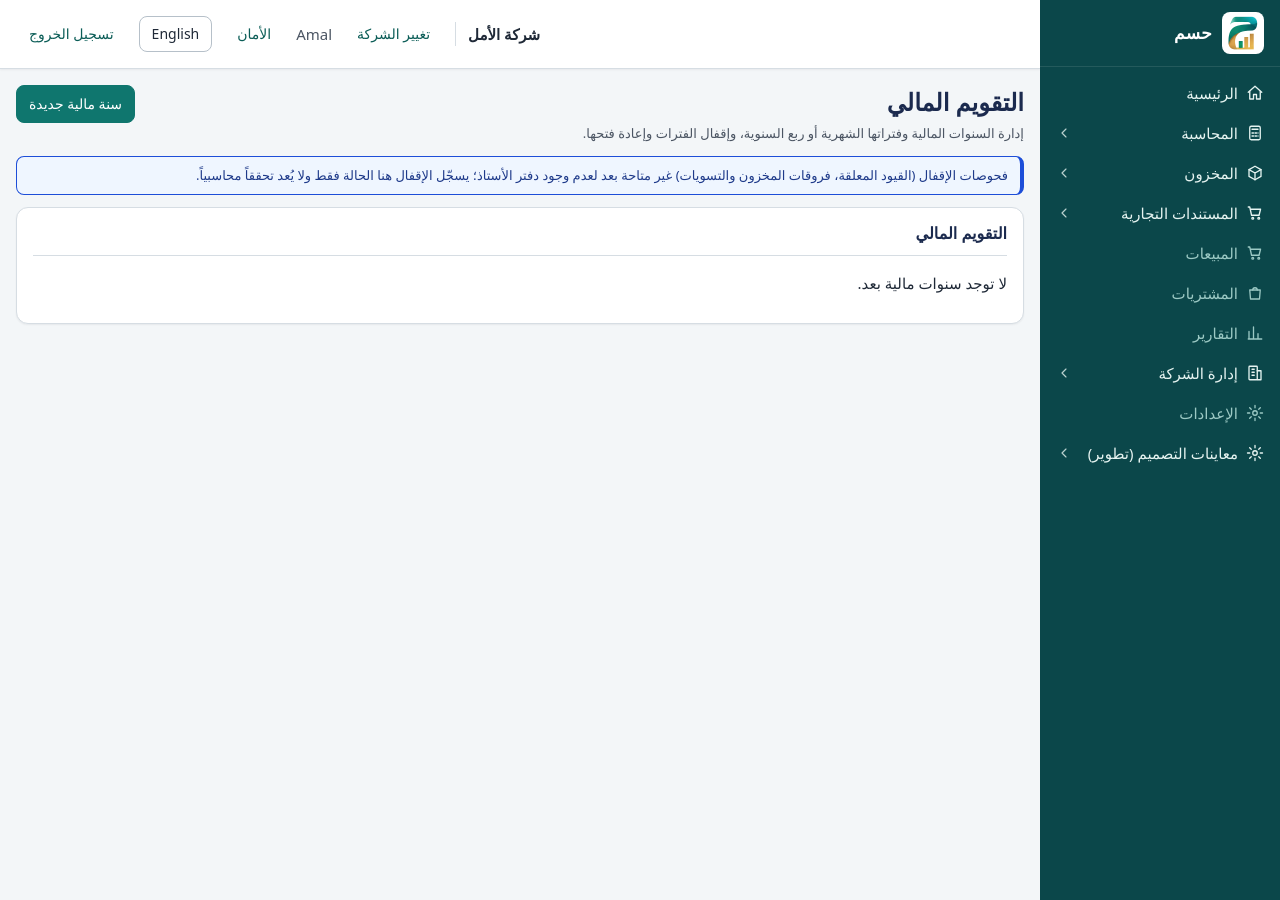
fiscal year: Arabic-Indic start year › refuses the invalid year ٢٠٢x: nothing is sent and the field shows its error
Check: the element with test id "company-name" is shown, box [455,22,540,46]
Click the button "سنة مالية جديدة": (76, 104) [16,85,135,123]
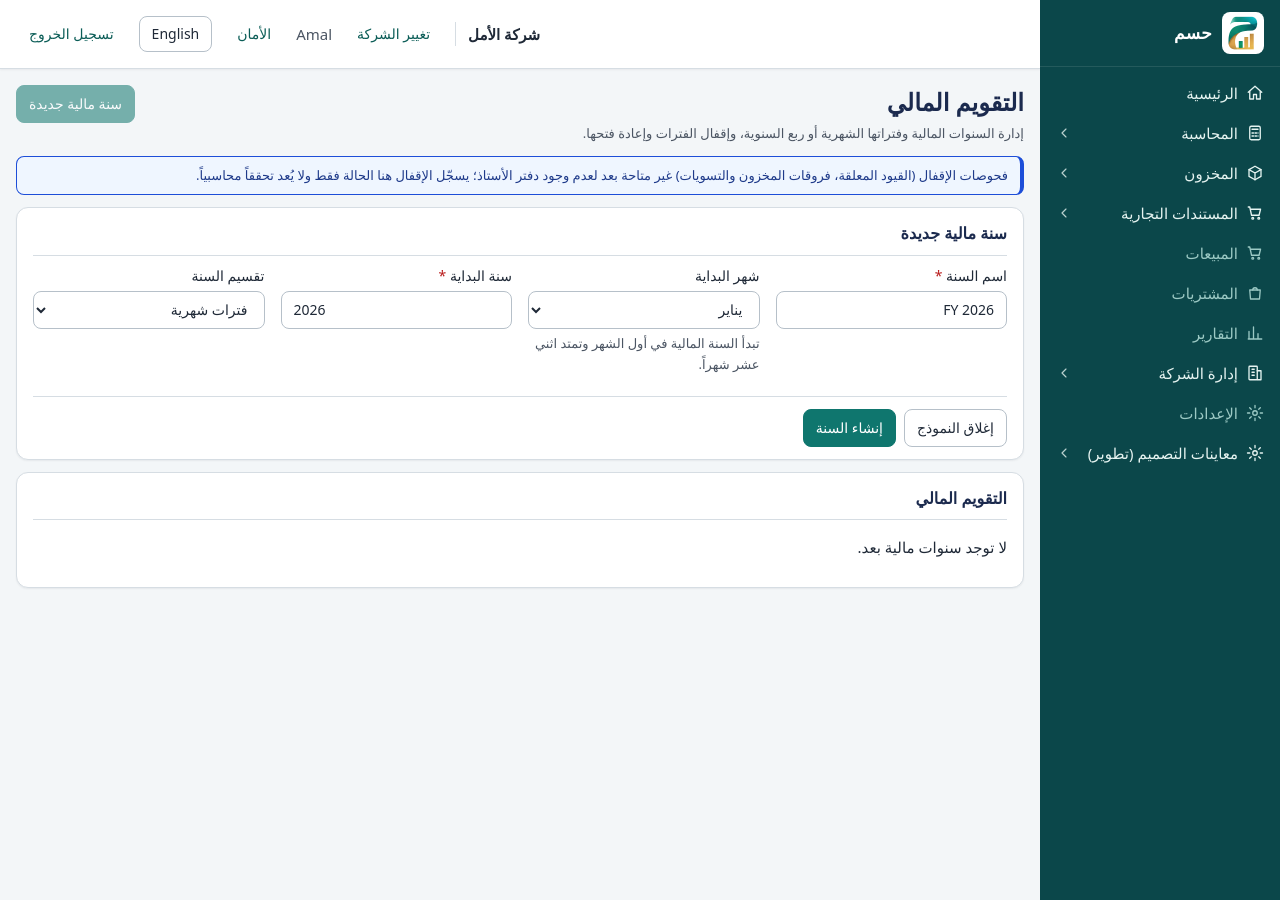
Replace the text in the field labelled "سنة البداية *" with "٢٠٢x": (396, 310) [280,291,512,329]
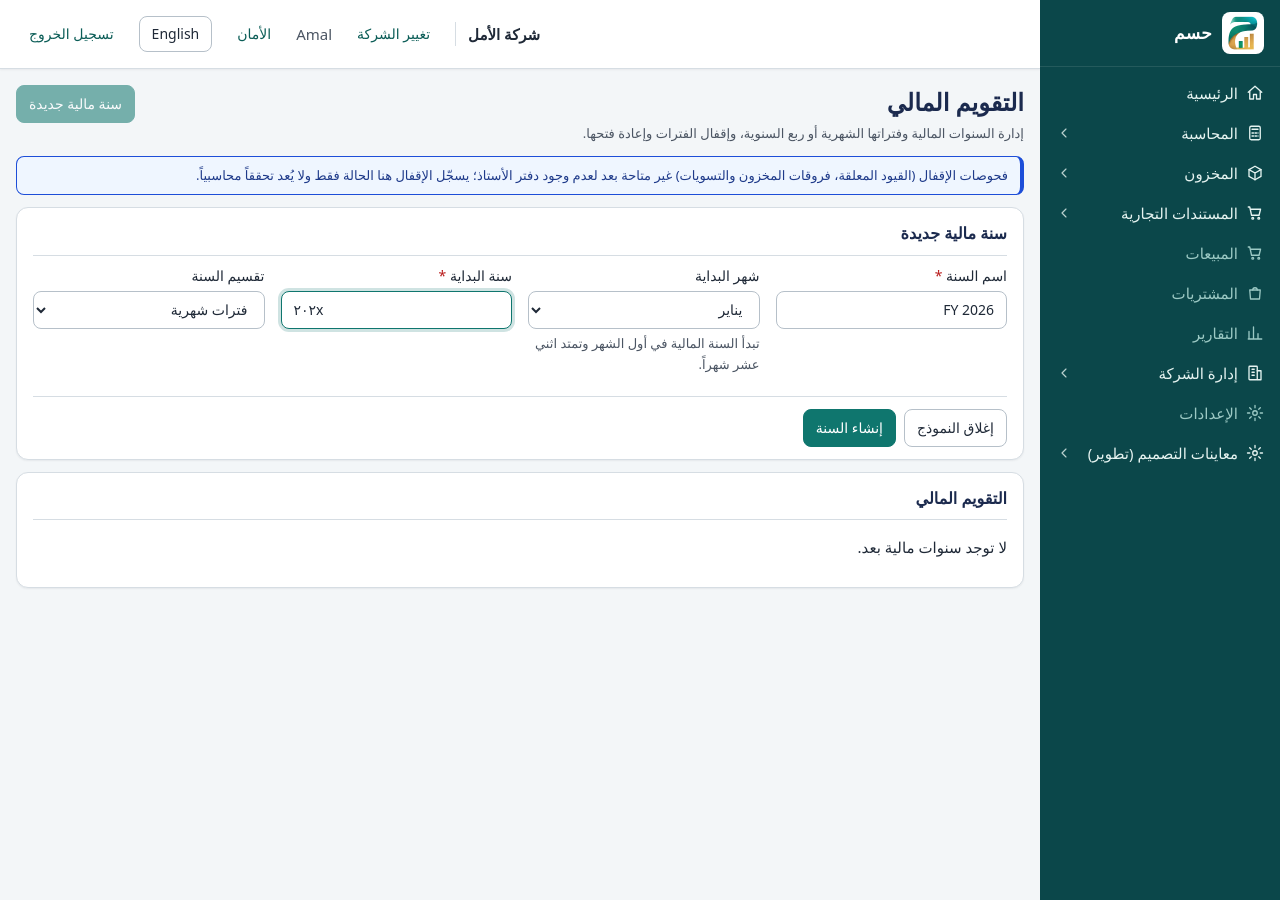
Click the button "إنشاء السنة": (849, 428) [803,409,896,447]
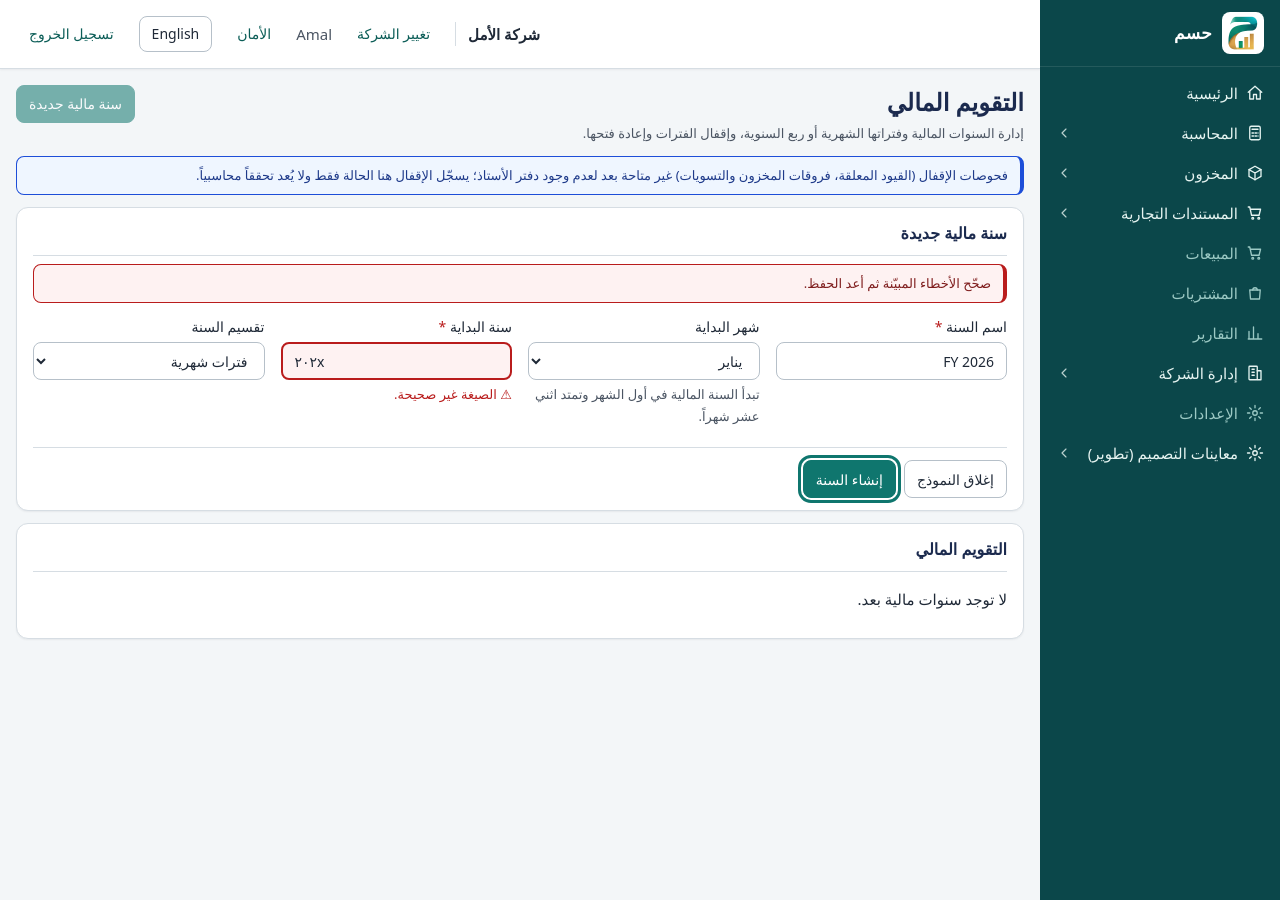
Check: the text "الصيغة غير صحيحة." is shown, box [394,385,497,403]
